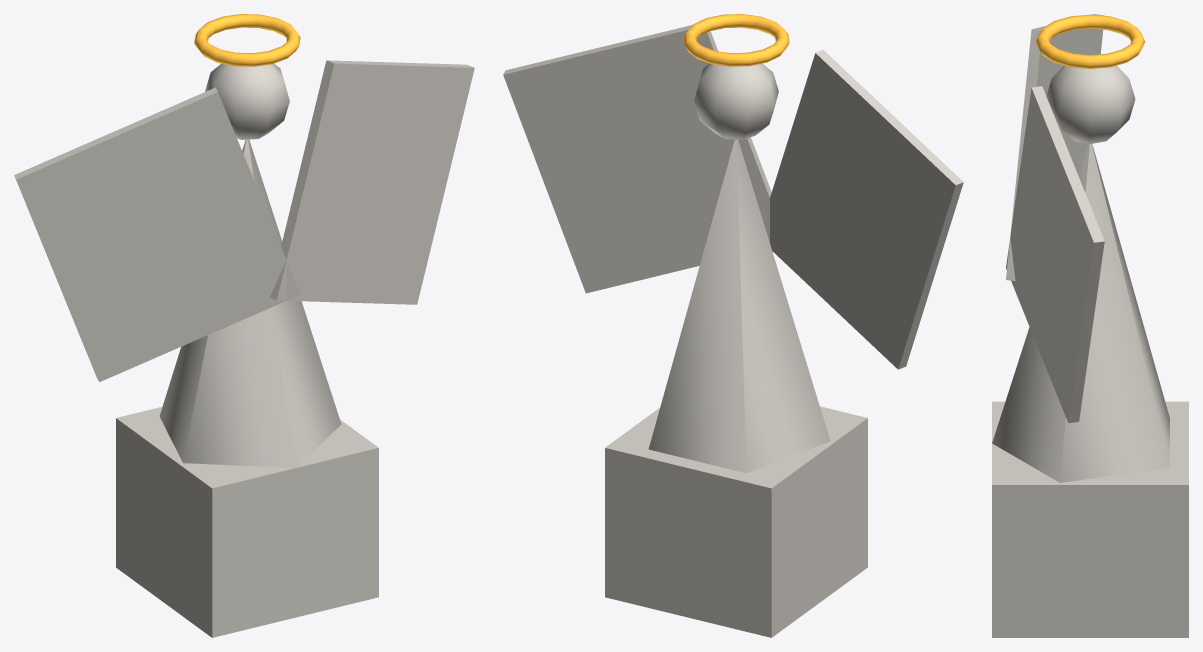
File: angel-statue.glb
3 renders of one model, left to right at view 1: azimuth 30°, elevation 25°; view 2: azimuth 150°, elevation 25°; view 3: azimuth 270°, elevation 25°, orthographic. The views are drawn at different scales.
Parts seen in each view (by area): view 1: stairway angel-statue; view 2: stairway angel-statue; view 3: stairway angel-statue.
Boxes of the visible parts, left/top/right/bottom form: stairway angel-statue: left=14, top=14, right=474, bottom=637; stairway angel-statue: left=503, top=14, right=963, bottom=637; stairway angel-statue: left=992, top=14, right=1188, bottom=637.
Bounding box in the file's own units: 3.85 × 4.39 × 1.4.
